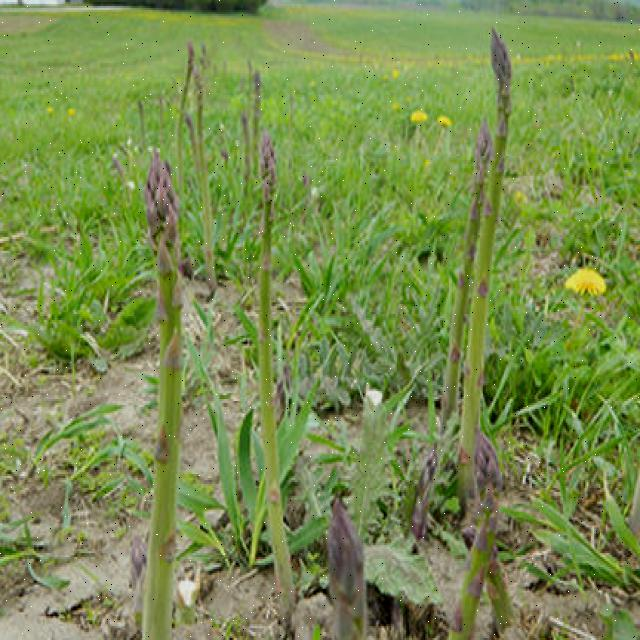aspargus: (142, 151, 185, 640)
